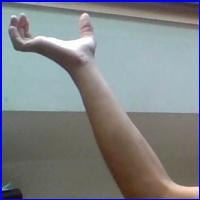space: (6, 8, 104, 77)
